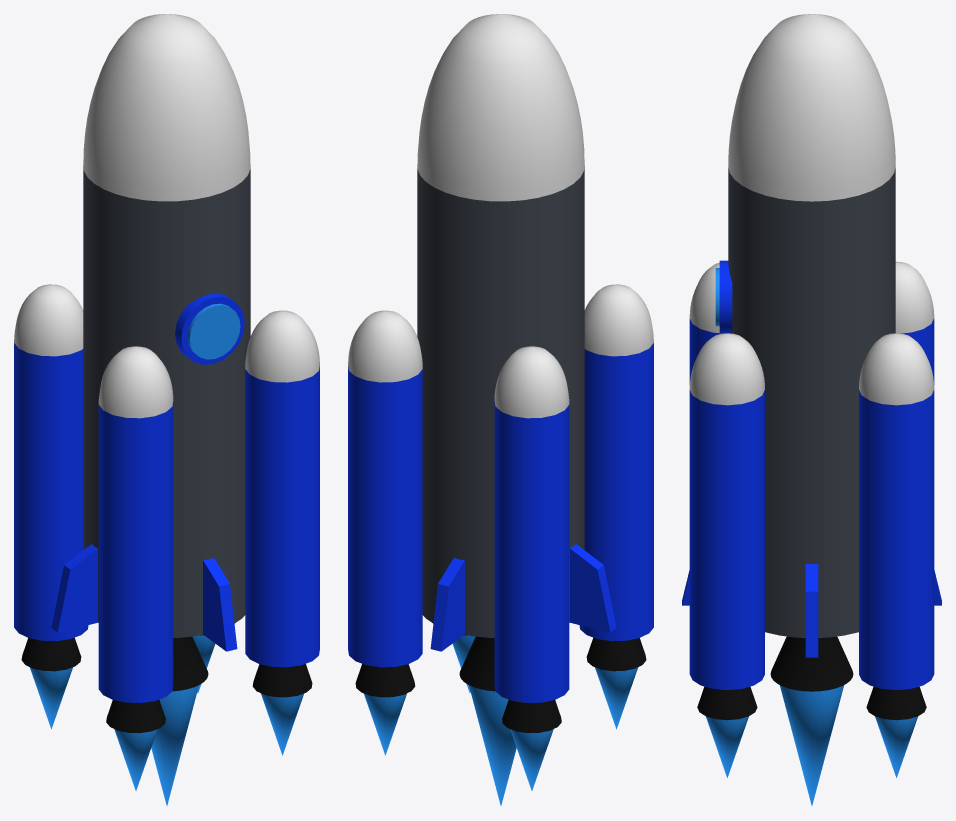
File: Rocket_17_ClusterCore.obj
3 renders of one model, left to right at view 1: azimuth 30°, elevation 25°; view 2: azimuth 150°, elevation 25°; view 3: azimuth 270°, elevation 25°, orthographic.
Parts seen in each view (by area): view 1: R17_Body, R17_Nose, R17_Booster_3, R17_Booster_4, R17_Booster_2, R17_BoosterNose_4, R17_BoosterNose_3, R17_BoosterNose_2, R17_Fin_2, R17_Flame_1, R17_Fin_3, R17_Window_1 (+8 smaller); view 2: R17_Body, R17_Nose, R17_Booster_2, R17_Booster_1, R17_Booster_3, R17_BoosterNose_1, R17_BoosterNose_2, R17_BoosterNose_3, R17_Fin_2, R17_Flame_1, R17_Fin_1, R17_BoosterNozzle_1 (+6 smaller); view 3: R17_Body, R17_Nose, R17_Booster_1, R17_Booster_4, R17_BoosterNose_1, R17_BoosterNose_4, R17_Flame_1, R17_Nozzle_1, R17_BoosterNose_2, R17_BoosterNozzle_1, R17_BoosterNozzle_4, R17_BoosterNose_3 (+6 smaller).
Part boxes in pixels (x1,y1,x2,y2): R17_Body: (83, 165, 250, 637); R17_Nose: (83, 14, 250, 201); R17_Booster_3: (98, 402, 173, 702); R17_Booster_4: (245, 365, 319, 667); R17_Booster_2: (14, 343, 88, 641); R17_BoosterNose_4: (245, 310, 319, 382); R17_BoosterNose_3: (98, 346, 173, 418); R17_BoosterNose_2: (14, 284, 83, 356); R17_Fin_2: (51, 544, 97, 632); R17_Flame_1: (151, 685, 198, 805); R17_Fin_3: (203, 558, 237, 651); R17_Window_1: (187, 303, 240, 359); R17_Body: (417, 165, 584, 637); R17_Nose: (417, 14, 584, 201); R17_Booster_2: (494, 402, 569, 702); R17_Booster_1: (348, 365, 422, 667); R17_Booster_3: (579, 343, 653, 641); R17_BoosterNose_1: (348, 310, 422, 382); R17_BoosterNose_2: (494, 346, 569, 418); R17_BoosterNose_3: (584, 284, 653, 356); R17_Fin_2: (570, 544, 616, 632); R17_Flame_1: (469, 685, 516, 805); R17_Fin_1: (430, 558, 464, 651); R17_BoosterNozzle_1: (355, 664, 415, 697); R17_Body: (728, 167, 895, 637); R17_Nose: (728, 14, 895, 201); R17_Booster_1: (859, 390, 934, 689); R17_Booster_4: (689, 390, 764, 689); R17_BoosterNose_1: (859, 333, 934, 405); R17_BoosterNose_4: (689, 333, 764, 405); R17_Flame_1: (779, 685, 844, 805); R17_Nozzle_1: (770, 636, 853, 691); R17_BoosterNose_2: (895, 261, 934, 333); R17_BoosterNozzle_1: (866, 686, 926, 720); R17_BoosterNozzle_4: (697, 686, 757, 720); R17_BoosterNose_3: (689, 262, 719, 332).
Bounding box in the file's own units: 2.48 × 8.35 × 2.48.
